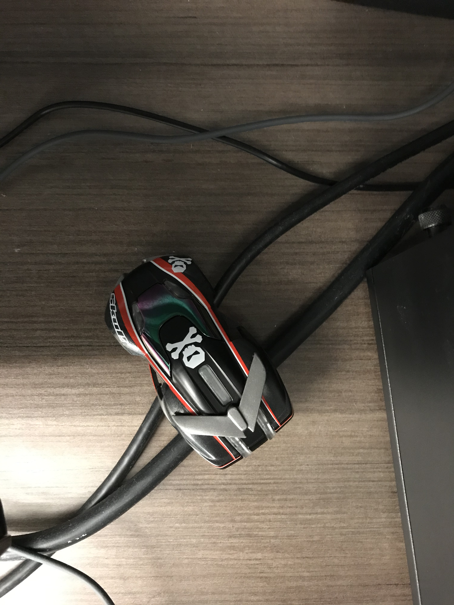Skull: (105, 250, 296, 472)
